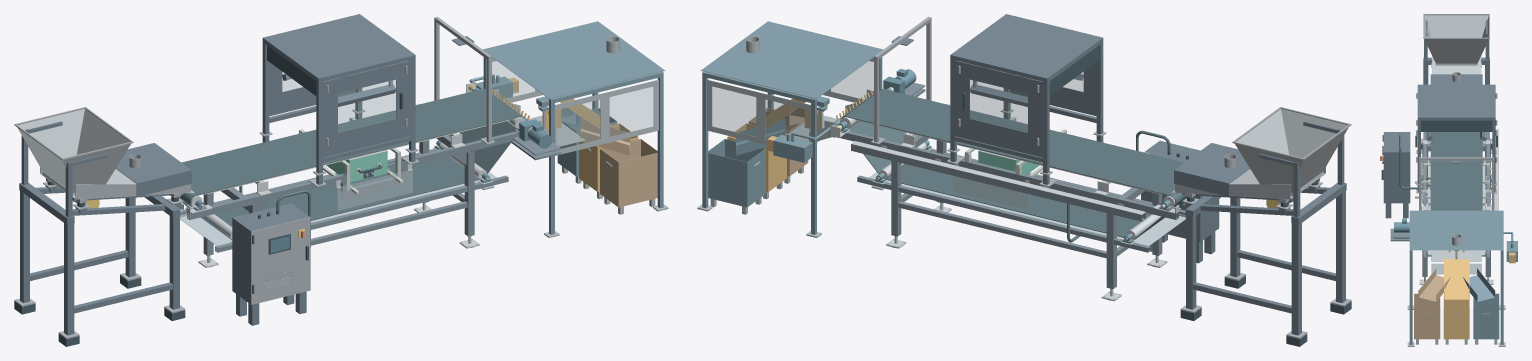
File: conveyor_assembly.glb
3 renders of one model, left to right at view 1: azimuth 30°, elevation 25°; view 2: azimuth 150°, elevation 25°; view 3: azimuth 270°, elevation 25°, orthographic. The views are drawn at different scales.
Parts seen in each view (by area): view 1: belt_loop, discharge_roof, feed_hopper_shell, hood_roof, hood_access_frame_near, controls_cabinet_door, bin_review, controls_cabinet_shell, feed_transfer_cover, hood_inspection_window_near, discharge_access_frame_-525, discharge_window_3910_-525 (+33 smaller); view 2: belt_loop, discharge_roof, hood_roof, feed_hopper_shell, hood_access_frame_far, bin_balance, frame_rail_right, feed_transfer_cover, hood_inspection_window_far, cable_trunk, discharge_window_3910_525, discharge_access_frame_525 (+32 smaller); view 3: belt_loop, discharge_roof, feed_hopper_shell, hood_roof, controls_cabinet_shell, bin_review, bin_balance, bin_concentrate, concentrate_chute_floor, hood_baffle_out, balance_catch_floor, feed_transfer_cover (+30 smaller).
Part boxes in pixels (<box>): belt_loop: <box>179,89,524,239</box>; discharge_roof: <box>482,21,665,98</box>; feed_hopper_shell: <box>18,109,130,193</box>; hood_roof: <box>263,14,414,78</box>; hood_access_frame_near: <box>323,60,411,157</box>; controls_cabinet_door: <box>251,217,310,304</box>; bin_review: <box>600,139,657,207</box>; controls_cabinet_shell: <box>232,203,309,304</box>; feed_transfer_cover: <box>116,143,191,196</box>; hood_inspection_window_near: <box>338,80,395,132</box>; discharge_access_frame_-525: <box>555,79,658,155</box>; discharge_window_3910_-525: <box>610,87,653,136</box>; belt_loop: <box>841,89,1186,239</box>; discharge_roof: <box>700,21,883,98</box>; hood_roof: <box>951,14,1102,78</box>; feed_hopper_shell: <box>1235,109,1347,193</box>; hood_access_frame_far: <box>954,60,1042,157</box>; bin_balance: <box>708,139,765,207</box>; frame_rail_right: <box>829,130,1178,219</box>; feed_transfer_cover: <box>1174,143,1249,196</box>; hood_inspection_window_far: <box>970,80,1027,132</box>; cable_trunk: <box>851,144,1145,221</box>; discharge_window_3910_525: <box>712,87,755,136</box>; discharge_access_frame_525: <box>707,79,810,144</box>; belt_loop: <box>1430,132,1482,210</box>; discharge_roof: <box>1409,210,1503,250</box>; feed_hopper_shell: <box>1424,15,1488,63</box>; hood_roof: <box>1417,84,1495,117</box>; controls_cabinet_shell: <box>1384,132,1410,203</box>; bin_review: <box>1414,293,1440,339</box>; bin_balance: <box>1473,293,1499,339</box>; bin_concentrate: <box>1443,294,1469,339</box>; concentrate_chute_floor: <box>1444,259,1469,299</box>; hood_baffle_out: <box>1421,120,1492,131</box>; balance_catch_floor: <box>1431,250,1481,261</box>; feed_transfer_cover: <box>1430,74,1482,84</box>.
Bounding box in the file's own units: 5.52 × 1.85 × 1.59.
